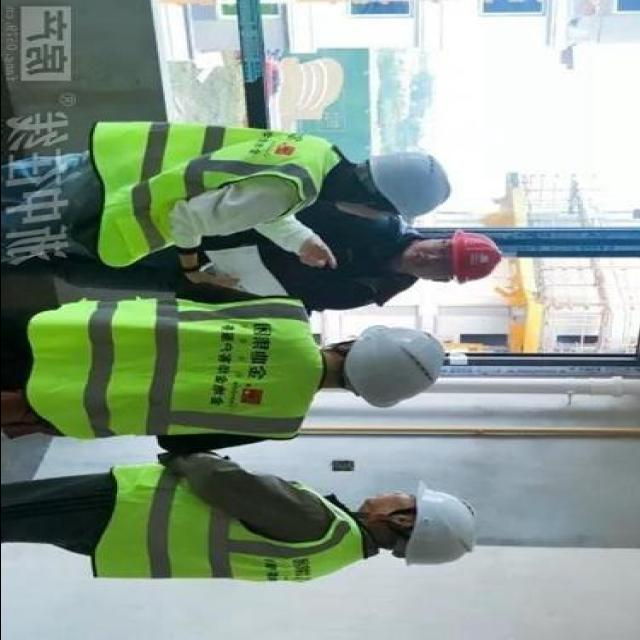helmet: (346, 319, 452, 417), (393, 481, 488, 577), (358, 140, 454, 230), (443, 229, 503, 285)
jacket: (30, 288, 324, 448), (83, 98, 344, 266), (84, 457, 370, 602)
